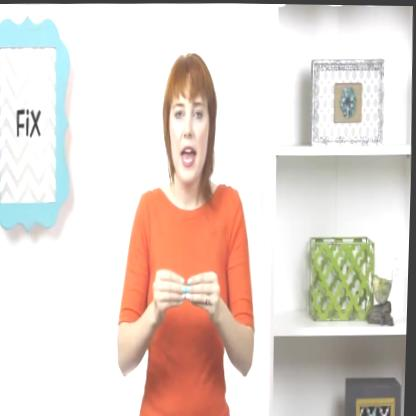Fix: (142, 224, 225, 356)
